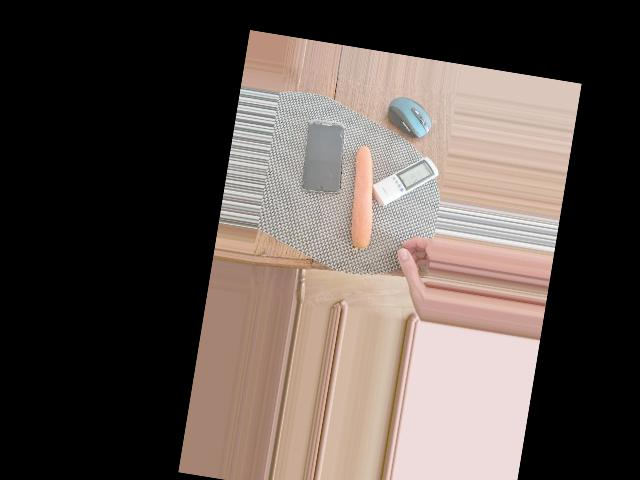carrot: (340, 144, 386, 251)
